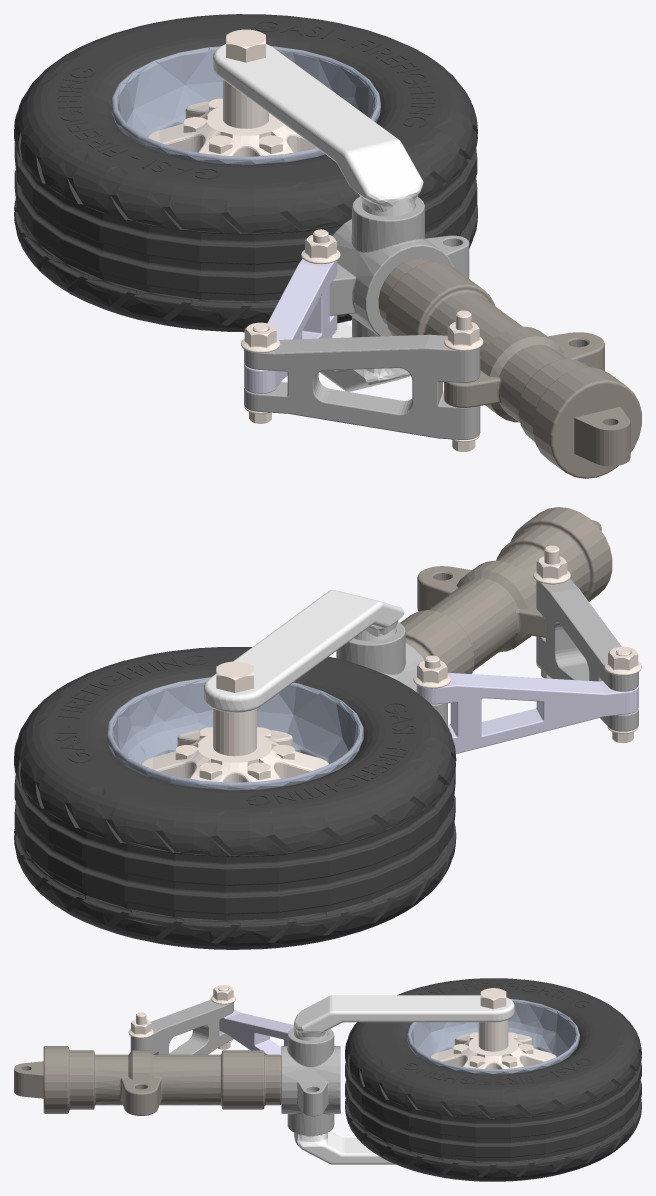
The model's file is nose_gear.glb.
3 renders of one model, top to bottom at view 1: azimuth 30°, elevation 25°; view 2: azimuth 150°, elevation 25°; view 3: azimuth 270°, elevation 25°, orthographic. The views are drawn at different scales.
Parts seen in each view (by area): view 1: NAUO30_7, NAUO24_1, NAUO28_5, NAUO27_4, NAUO30_8, NAUO26_3, NAUO31_9, NAUO29_6, NAUO39_17, NAUO37_15, NAUO36_14, NAUO38_16; view 2: NAUO30_7, NAUO24_1, NAUO30_8, NAUO29_6, NAUO27_4, NAUO28_5, NAUO31_9, NAUO26_3, NAUO39_17, NAUO37_15, NAUO36_14, NAUO38_16; view 3: NAUO30_7, NAUO24_1, NAUO27_4, NAUO26_3, NAUO30_8, NAUO28_5, NAUO31_9, NAUO29_6, NAUO39_17, NAUO37_15, NAUO36_14.
Boxes of the visible parts, x1,y1,x2,y2 form: NAUO30_7: (14, 14, 477, 332); NAUO24_1: (378, 258, 641, 478); NAUO28_5: (244, 334, 480, 439); NAUO27_4: (213, 44, 423, 391); NAUO30_8: (111, 46, 380, 164); NAUO26_3: (329, 196, 469, 337); NAUO31_9: (147, 79, 315, 156); NAUO29_6: (244, 259, 337, 393); NAUO39_17: (226, 29, 265, 62); NAUO37_15: (241, 322, 280, 353); NAUO36_14: (444, 322, 483, 351); NAUO38_16: (301, 234, 340, 264); NAUO30_7: (14, 647, 456, 949); NAUO24_1: (400, 507, 612, 673); NAUO30_8: (106, 677, 363, 790); NAUO29_6: (416, 673, 638, 753); NAUO27_4: (203, 590, 404, 712); NAUO28_5: (536, 579, 638, 731); NAUO31_9: (141, 708, 328, 782); NAUO26_3: (336, 622, 447, 726); NAUO39_17: (216, 661, 253, 692); NAUO37_15: (604, 646, 641, 675); NAUO36_14: (533, 556, 570, 584); NAUO38_16: (413, 660, 450, 688); NAUO30_7: (345, 978, 641, 1181); NAUO24_1: (14, 1046, 281, 1115); NAUO27_4: (294, 995, 514, 1164); NAUO26_3: (281, 1027, 340, 1135); NAUO30_8: (407, 999, 579, 1074); NAUO28_5: (130, 999, 233, 1054); NAUO31_9: (430, 1020, 556, 1069); NAUO29_6: (219, 1009, 293, 1055); NAUO39_17: (480, 988, 506, 1009); NAUO37_15: (210, 985, 235, 1004); NAUO36_14: (128, 1019, 153, 1038).
Bounding box in the file's own units: 0.3608 × 0.225 × 0.7399.
